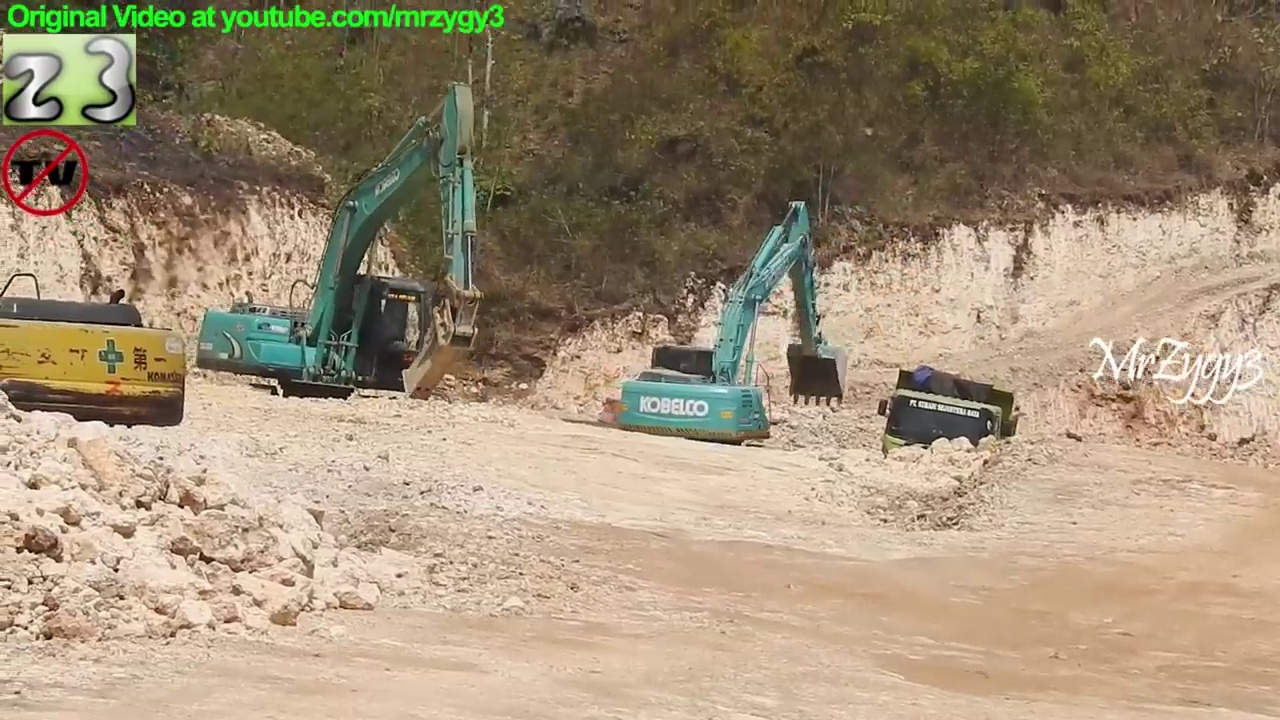excavator: (193, 76, 492, 426), (599, 195, 857, 467), (1, 268, 193, 436)
truck: (872, 361, 1030, 509)
